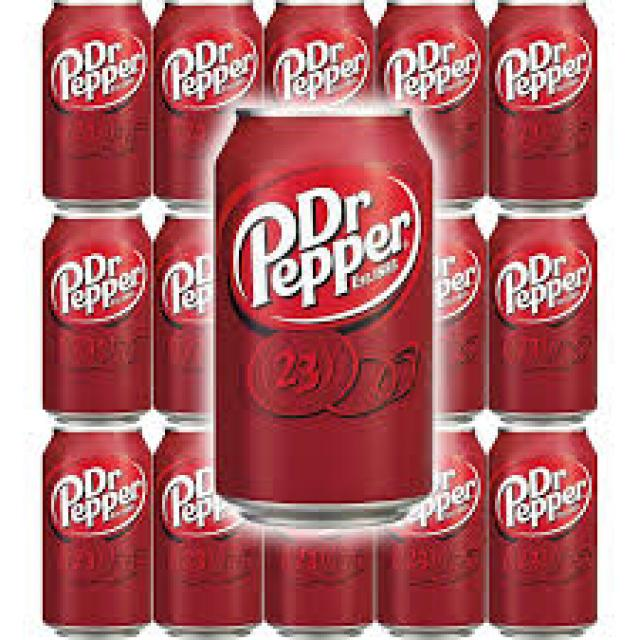Cans: (202, 94, 444, 532)
